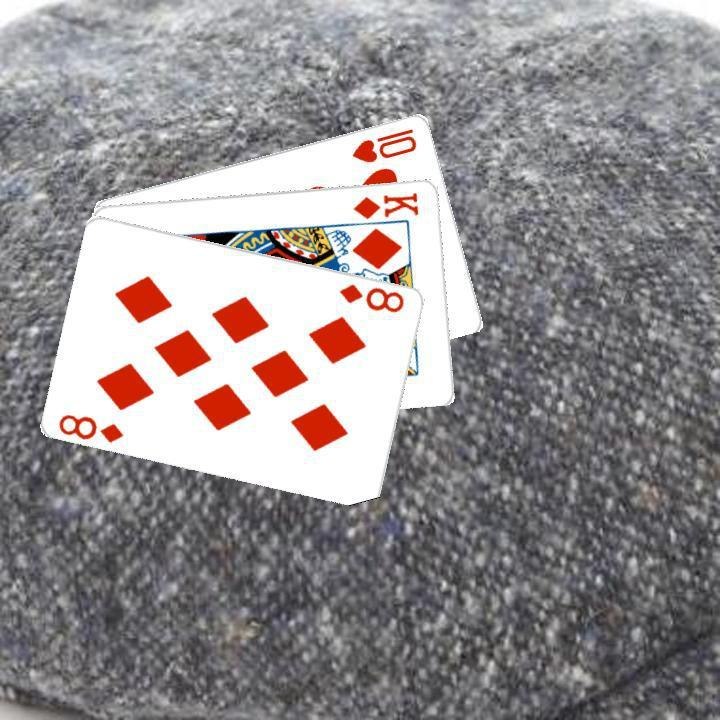10: (348, 123, 419, 164)
8: (335, 279, 407, 315), (54, 409, 126, 444)
K: (349, 188, 422, 221)
